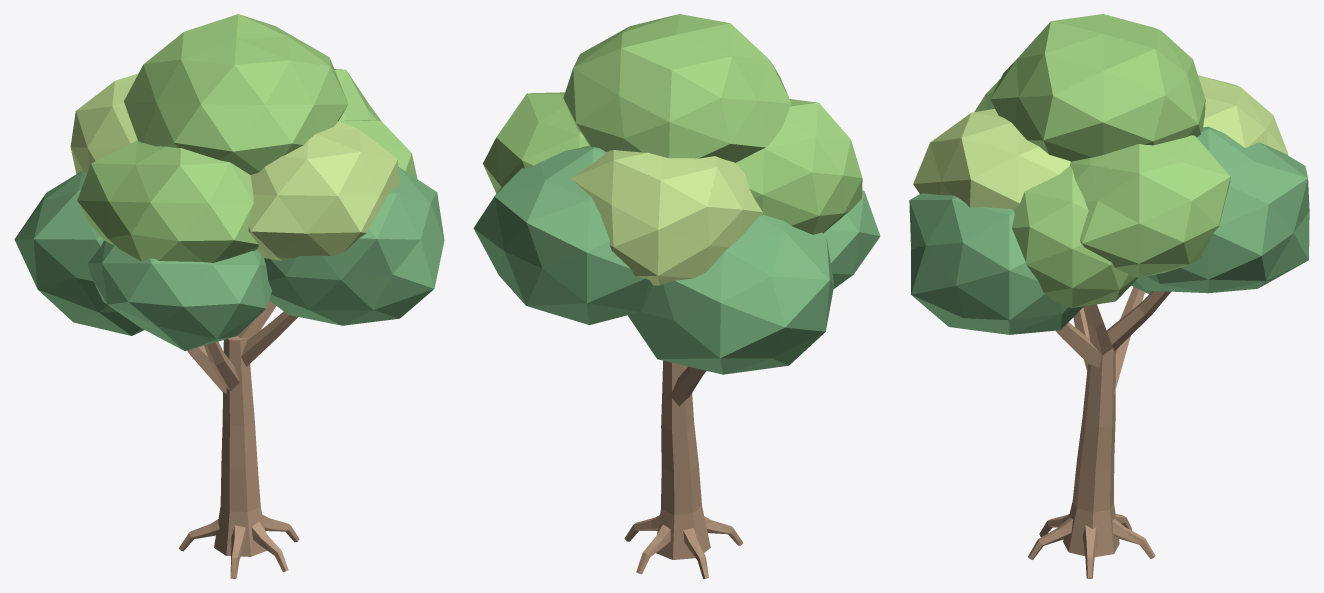
File: arvore_copa_1.fbx
3 renders of one model, left to right at view 1: azimuth 30°, elevation 25°; view 2: azimuth 150°, elevation 25°; view 3: azimuth 270°, elevation 25°, orthographic. The views are drawn at different scales.
Parts seen in each view (by area): view 1: arvore_copa_1~Copa 9@leaf, arvore_copa_1~Copa 7@leaf, arvore_copa_1~Copa 4@leafdark, arvore_copa_1~Copa 8@leaflight, arvore_copa_1~Copa 3@leafdark, arvore_copa_1~Copa 2@leafdark, arvore_copa_1~Tronco@bark, arvore_copa_1~Copa 6@leaflight, arvore_copa_1~Copa 0@leaf, arvore_copa_1~Copa 5@leaf, arvore_copa_1~Galho 4@bark, arvore_copa_1~Galho 3@bark (+3 smaller); view 2: arvore_copa_1~Copa 9@leaf, arvore_copa_1~Copa 2@leafdark, arvore_copa_1~Copa 1@leafdark, arvore_copa_1~Copa 6@leaflight, arvore_copa_1~Copa 7@leaf, arvore_copa_1~Tronco@bark, arvore_copa_1~Copa 5@leaf, arvore_copa_1~Copa 3@leafdark, arvore_copa_1~Galho 2@bark, arvore_copa_1~Raiz 1@bark, arvore_copa_1~Raiz 2@bark; view 3: arvore_copa_1~Copa 9@leaf, arvore_copa_1~Copa 5@leaf, arvore_copa_1~Copa 4@leafdark, arvore_copa_1~Copa 1@leafdark, arvore_copa_1~Copa 8@leaflight, arvore_copa_1~Copa 0@leaf, arvore_copa_1~Tronco@bark, arvore_copa_1~Copa 6@leaflight, arvore_copa_1~Galho 1@bark, arvore_copa_1~Galho 4@bark, arvore_copa_1~Galho 0@bark, arvore_copa_1~Galho 2@bark (+3 smaller).
Boxes of the visible parts, <box> form: arvore_copa_1~Copa 9@leaf: <box>124,14,348,174</box>; arvore_copa_1~Copa 7@leaf: <box>77,140,258,262</box>; arvore_copa_1~Copa 4@leafdark: <box>264,167,444,325</box>; arvore_copa_1~Copa 8@leaflight: <box>248,121,399,260</box>; arvore_copa_1~Copa 3@leafdark: <box>88,240,271,350</box>; arvore_copa_1~Copa 2@leafdark: <box>14,171,144,335</box>; arvore_copa_1~Tronco@bark: <box>214,336,266,556</box>; arvore_copa_1~Copa 6@leaflight: <box>70,73,138,173</box>; arvore_copa_1~Copa 0@leaf: <box>339,120,417,178</box>; arvore_copa_1~Copa 5@leaf: <box>334,69,380,120</box>; arvore_copa_1~Galho 4@bark: <box>241,311,297,366</box>; arvore_copa_1~Galho 3@bark: <box>204,341,239,390</box>; arvore_copa_1~Copa 9@leaf: <box>563,14,791,162</box>; arvore_copa_1~Copa 2@leafdark: <box>628,214,834,374</box>; arvore_copa_1~Copa 1@leafdark: <box>473,145,653,324</box>; arvore_copa_1~Copa 6@leaflight: <box>571,150,762,285</box>; arvore_copa_1~Copa 7@leaf: <box>735,99,862,234</box>; arvore_copa_1~Tronco@bark: <box>656,360,710,559</box>; arvore_copa_1~Copa 5@leaf: <box>483,92,589,193</box>; arvore_copa_1~Copa 3@leafdark: <box>823,190,880,288</box>; arvore_copa_1~Galho 2@bark: <box>666,366,705,406</box>; arvore_copa_1~Raiz 1@bark: <box>636,524,670,574</box>; arvore_copa_1~Raiz 2@bark: <box>683,528,708,578</box>; arvore_copa_1~Copa 9@leaf: <box>990,14,1205,161</box>; arvore_copa_1~Copa 5@leaf: <box>1069,135,1230,277</box>; arvore_copa_1~Copa 4@leafdark: <box>909,193,1083,334</box>; arvore_copa_1~Copa 1@leafdark: <box>1136,126,1309,293</box>; arvore_copa_1~Copa 8@leaflight: <box>913,109,1070,209</box>; arvore_copa_1~Copa 0@leaf: <box>1012,166,1138,307</box>; arvore_copa_1~Tronco@bark: <box>1063,348,1119,557</box>; arvore_copa_1~Copa 6@leaflight: <box>1198,75,1288,155</box>; arvore_copa_1~Galho 1@bark: <box>1106,291,1170,350</box>; arvore_copa_1~Galho 4@bark: <box>1055,322,1101,368</box>; arvore_copa_1~Galho 0@bark: <box>1083,304,1112,355</box>; arvore_copa_1~Galho 2@bark: <box>1114,287,1144,394</box>.
Bounding box in the file's own units: 8.35 × 12.31 × 8.6.
